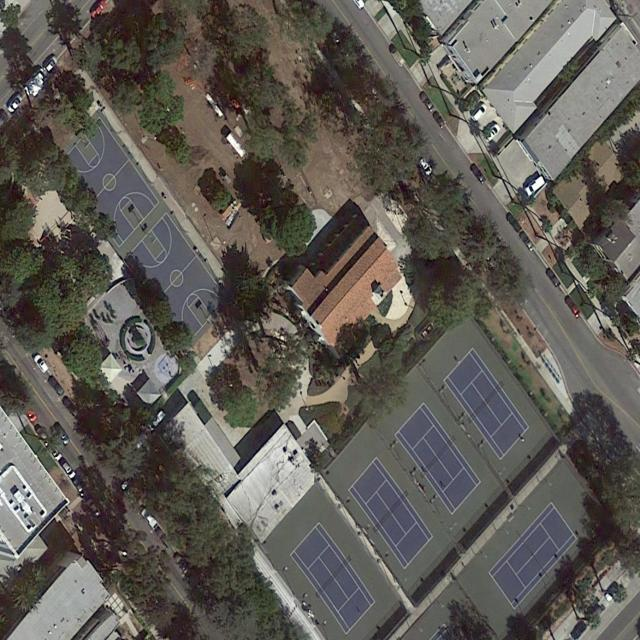small-vehicle: (524, 174, 548, 198), (47, 374, 65, 400), (173, 552, 192, 576), (505, 211, 524, 235), (469, 101, 488, 124), (6, 93, 24, 116), (53, 423, 71, 446), (46, 441, 64, 464), (71, 476, 89, 499), (545, 267, 562, 291), (564, 296, 582, 318), (35, 426, 53, 448), (603, 582, 620, 605), (63, 396, 80, 419), (470, 164, 487, 187), (519, 231, 536, 254), (483, 122, 500, 144), (417, 156, 433, 179), (432, 109, 448, 132), (570, 619, 587, 640), (85, 498, 102, 519), (61, 459, 77, 481), (419, 91, 435, 113), (90, 1, 107, 21), (34, 354, 49, 374), (43, 55, 58, 74)
